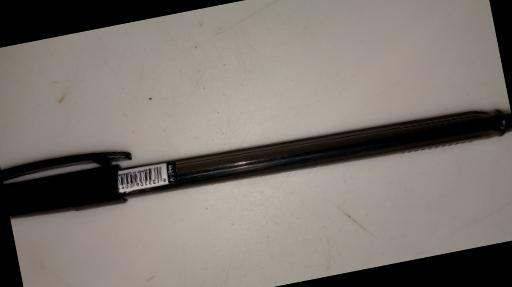pen: (0, 67, 512, 230)
